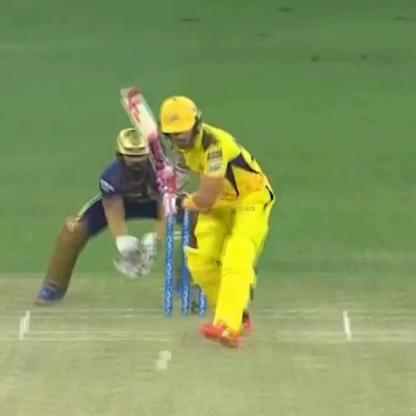ball: (153, 346, 178, 362), (152, 360, 172, 375)
bat: (118, 78, 186, 208)
pitch: (1, 294, 416, 416)
